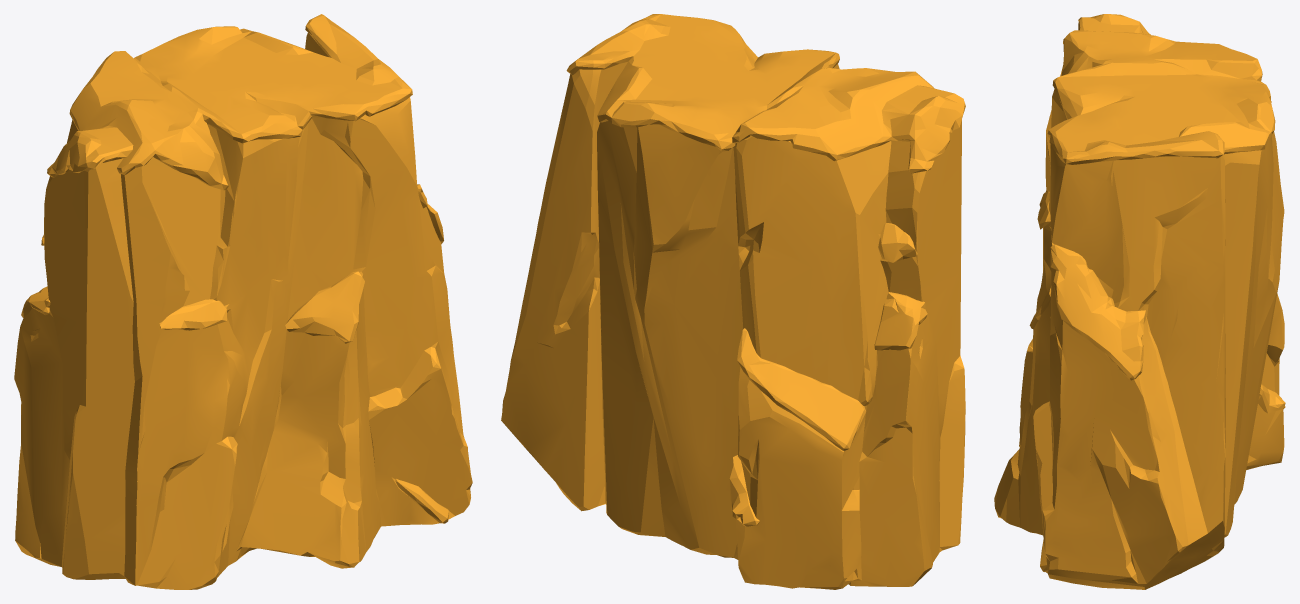
Rendered from SM_Iceberg_Big_B_Snow.fbx.
3 renders of one model, left to right at view 1: azimuth 30°, elevation 25°; view 2: azimuth 150°, elevation 25°; view 3: azimuth 270°, elevation 25°, orthographic. The views are drawn at different scales.
Visible parts, largest first — view 1: iceberg-big-b-snow; view 2: iceberg-big-b-snow; view 3: iceberg-big-b-snow.
Part boxes in pixels (box(x1,y1,x2,y2)): iceberg-big-b-snow: box(14, 14, 472, 589); iceberg-big-b-snow: box(501, 14, 965, 589); iceberg-big-b-snow: box(994, 14, 1285, 589).
Bounding box in the file's own units: 23.54 × 24.29 × 15.06.
